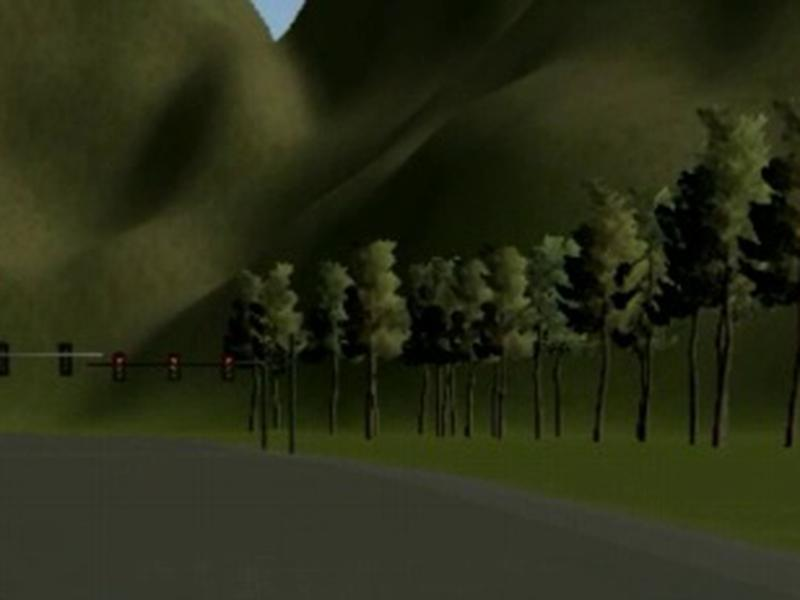Red: (112, 350, 128, 384), (222, 352, 237, 383), (167, 352, 181, 385)
